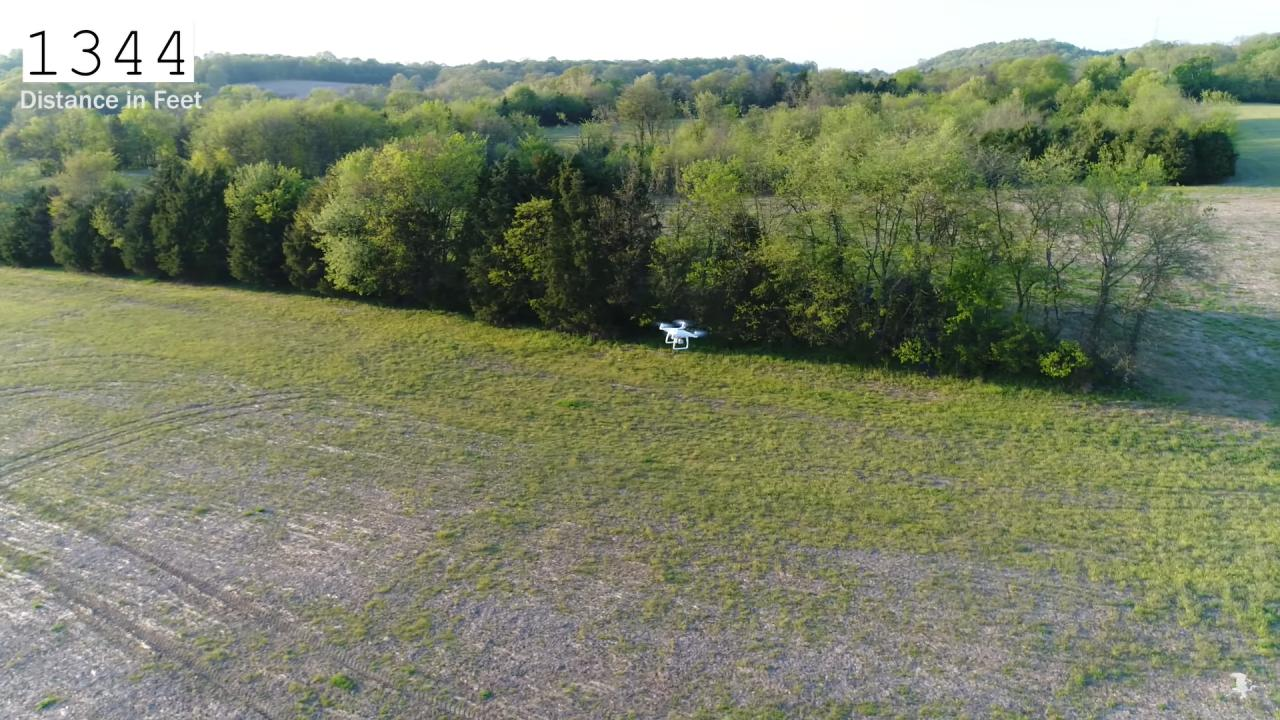Drone: (650, 310, 714, 354)
